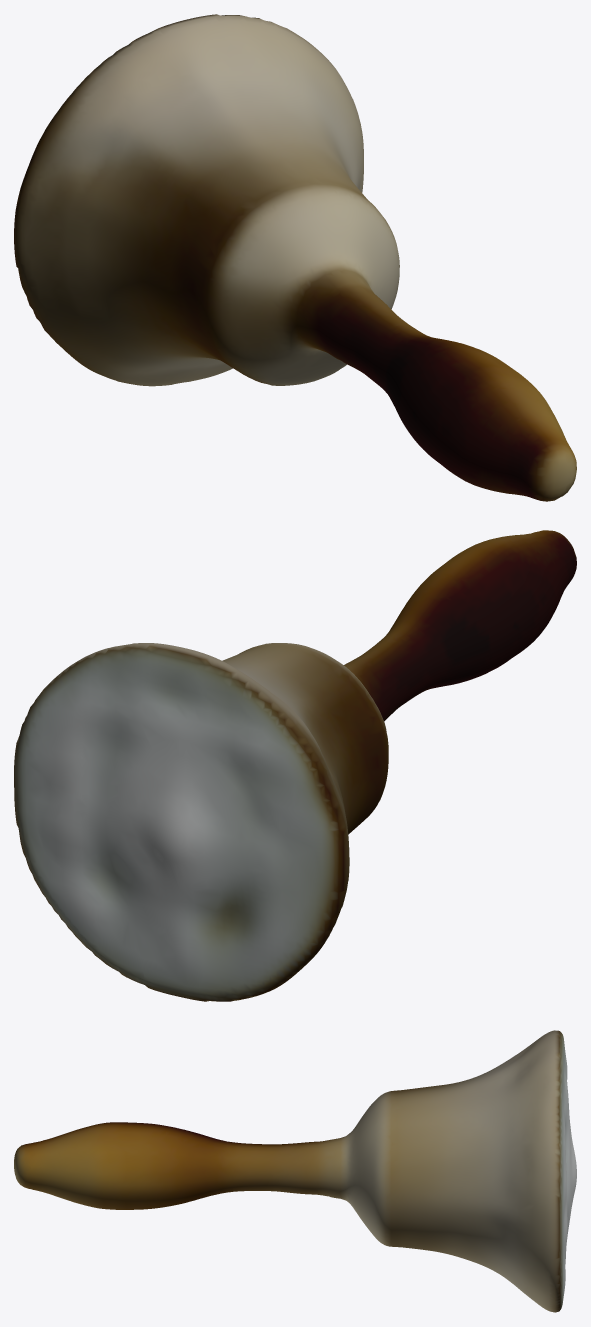
File: bell.glb
3 views of the same model, one above another, from view 1: azimuth 30°, elevation 25°; view 2: azimuth 150°, elevation 25°; view 3: azimuth 270°, elevation 25° (orthographic). The views are drawn at different scales.
Bounding box in the file's own units: 0.5015 × 0.4988 × 0.9995.
